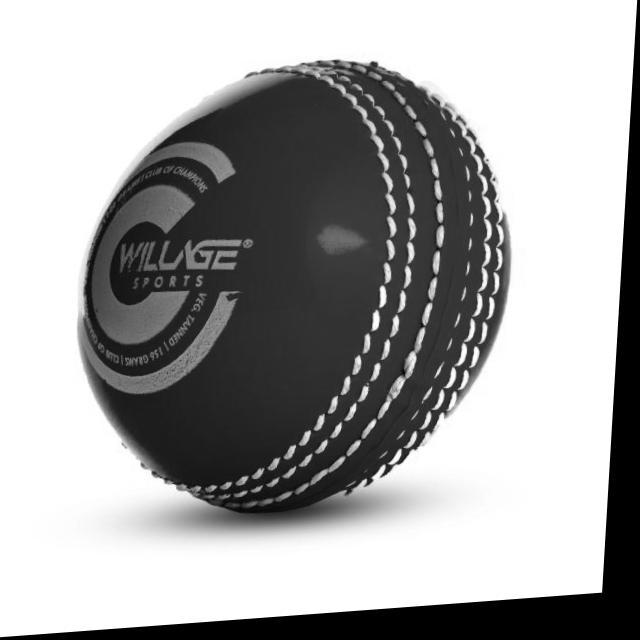cricket ball: (80, 65, 514, 518)
